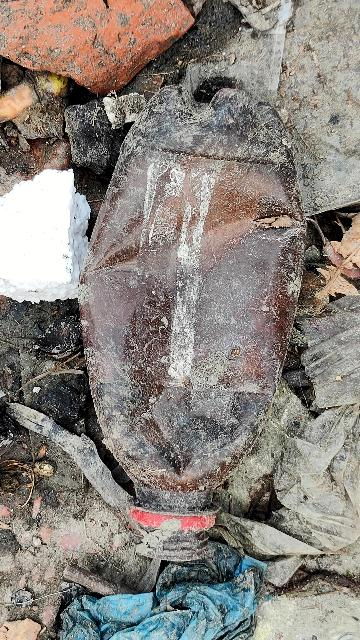bottle: (26, 72, 341, 574)
